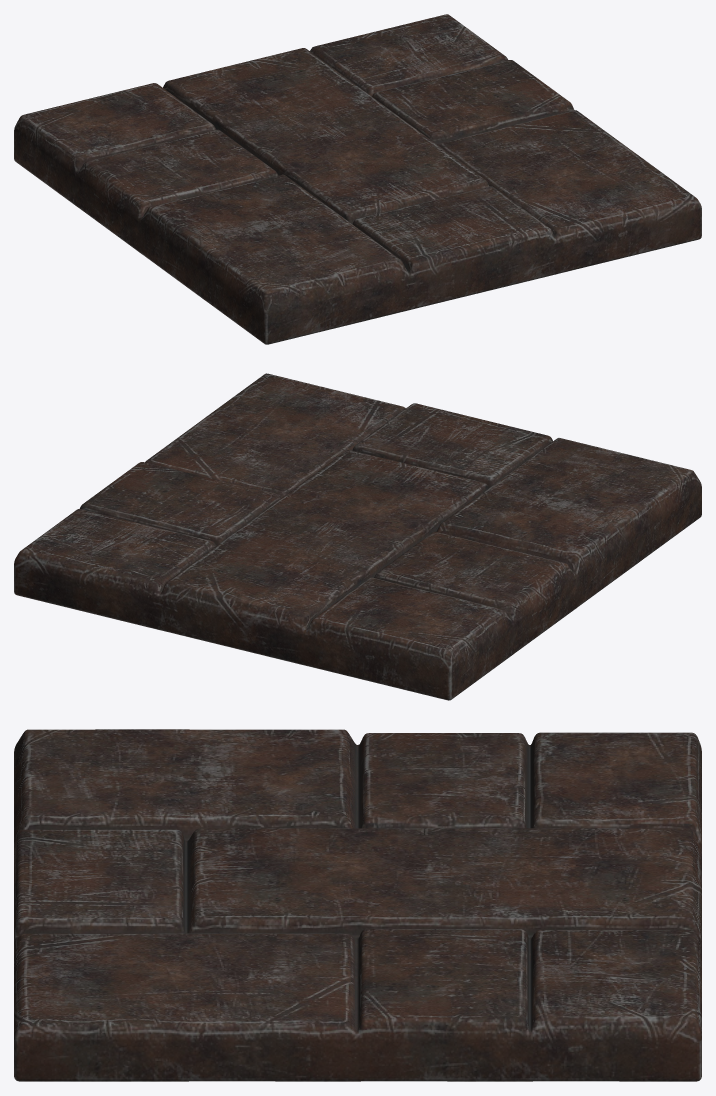
The model's file is floor_asset_low_poly.glb.
3 renders of one model, top to bottom at view 1: azimuth 30°, elevation 25°; view 2: azimuth 150°, elevation 25°; view 3: azimuth 270°, elevation 25°, orthographic. The views are drawn at different scales.
Parts seen in each view (by area): view 1: lp_Cube.000; view 2: lp_Cube.000; view 3: lp_Cube.000.
Part boxes in pixels (left/top/right/bottom): lp_Cube.000: left=14, top=14, right=701, bottom=344; lp_Cube.000: left=14, top=373, right=701, bottom=700; lp_Cube.000: left=14, top=729, right=701, bottom=1081.
Size of the model in its own units: 2 by 0.2175 by 2.
1 material, 1 textured.
